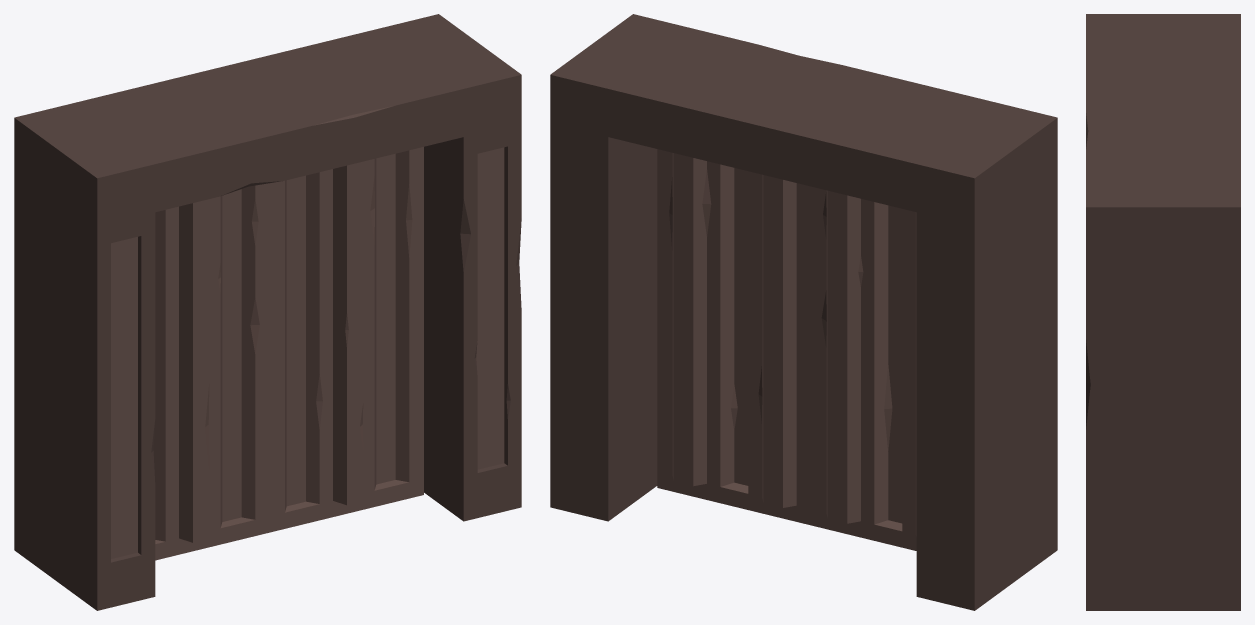
File: SM_Env_Door_21.fbx
3 renders of one model, left to right at view 1: azimuth 30°, elevation 25°; view 2: azimuth 150°, elevation 25°; view 3: azimuth 270°, elevation 25°, orthographic. The views are drawn at different scales.
Visible parts, largest first — view 1: SM_Env_Door_21; view 2: SM_Env_Door_21; view 3: SM_Env_Door_21.
Boxes of the visible parts, bbox=[...] form: SM_Env_Door_21: bbox=[14, 14, 521, 610]; SM_Env_Door_21: bbox=[550, 14, 1057, 610]; SM_Env_Door_21: bbox=[1086, 14, 1240, 610].
Bounding box in the file's own units: 157 × 153 × 53.2.
1 material, 1 textured.
